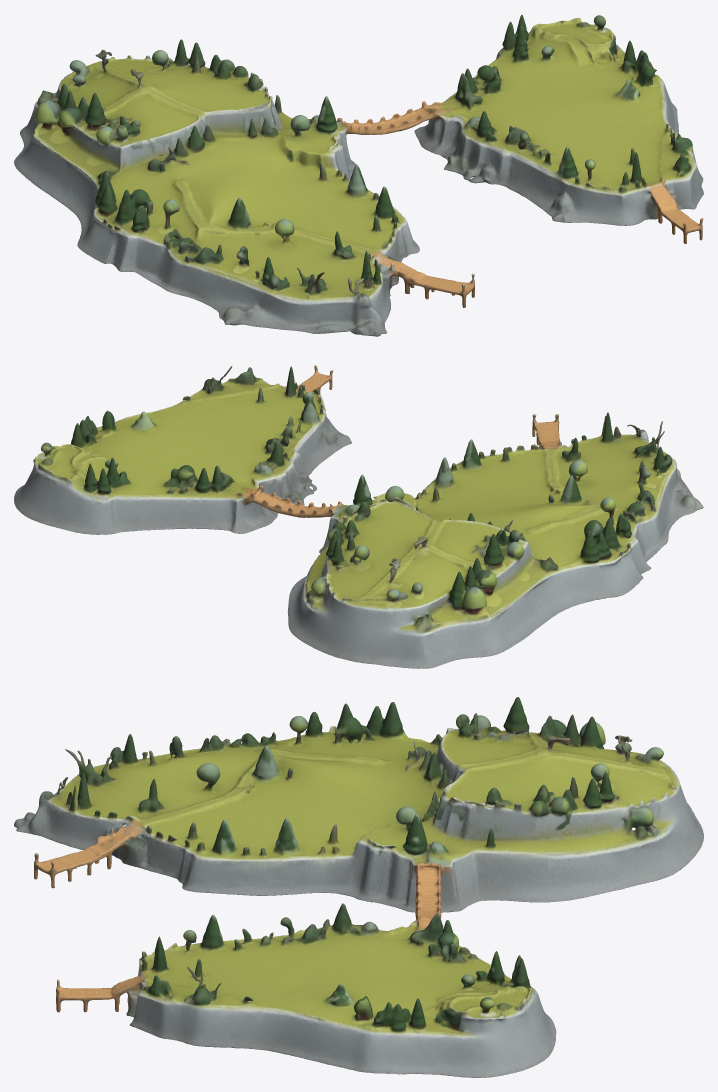
File: stisland.glb
The picture shows the model from 3 angles, top to bottom: view 1: azimuth 30°, elevation 25°; view 2: azimuth 150°, elevation 25°; view 3: azimuth 270°, elevation 25°; orthographic projection. The views are drawn at different scales.
Bounding box in the file's own units: 1.9 × 0.2761 × 1.71.
Materials: 1 (1 with a texture image).
